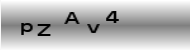4: (104, 9, 119, 24)
A: (63, 11, 81, 26)
Z: (35, 22, 51, 36)
p: (18, 21, 32, 36)
v: (85, 21, 100, 34)
